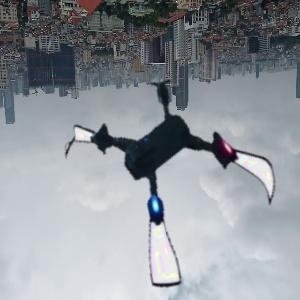drone: (68, 67, 288, 287)
